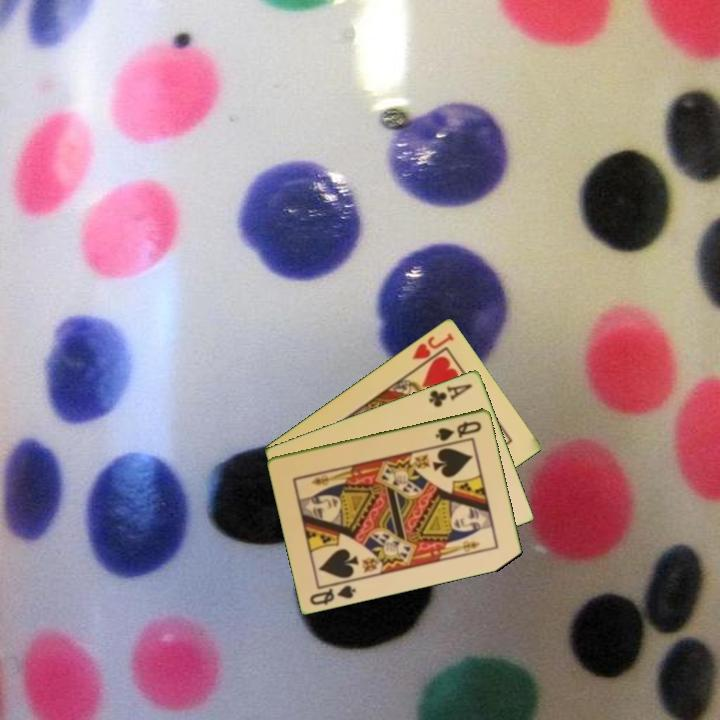Ac: (425, 380, 475, 410)
Jh: (408, 329, 457, 362)
Qs: (306, 577, 359, 608), (432, 417, 484, 444)
